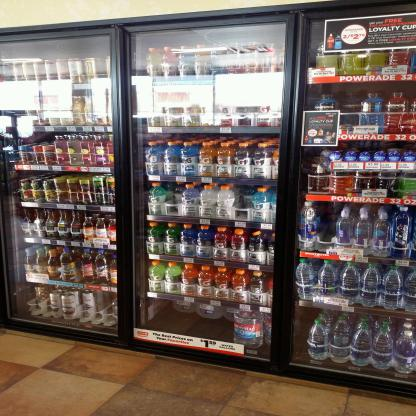Void: (155, 297, 232, 342), (290, 314, 307, 360), (323, 203, 336, 244)
